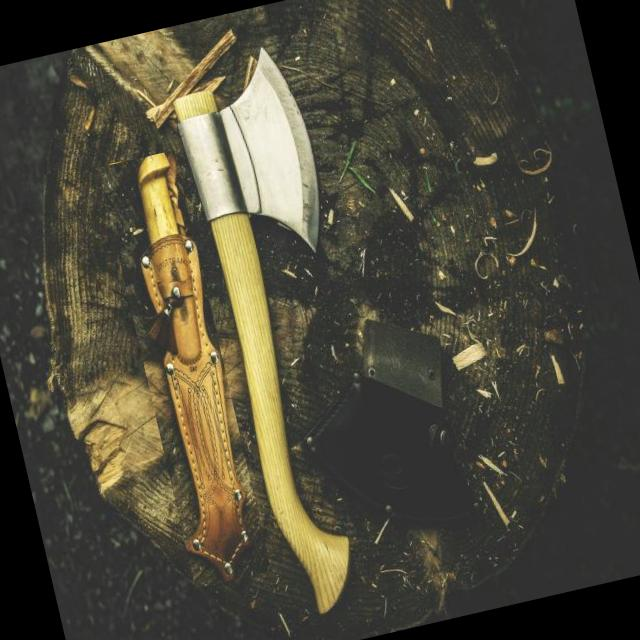Axe: (174, 49, 350, 614)
Knife: (137, 152, 247, 581)
